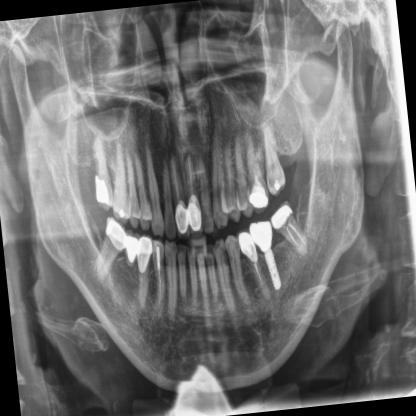ITI: (259, 246, 287, 294)
